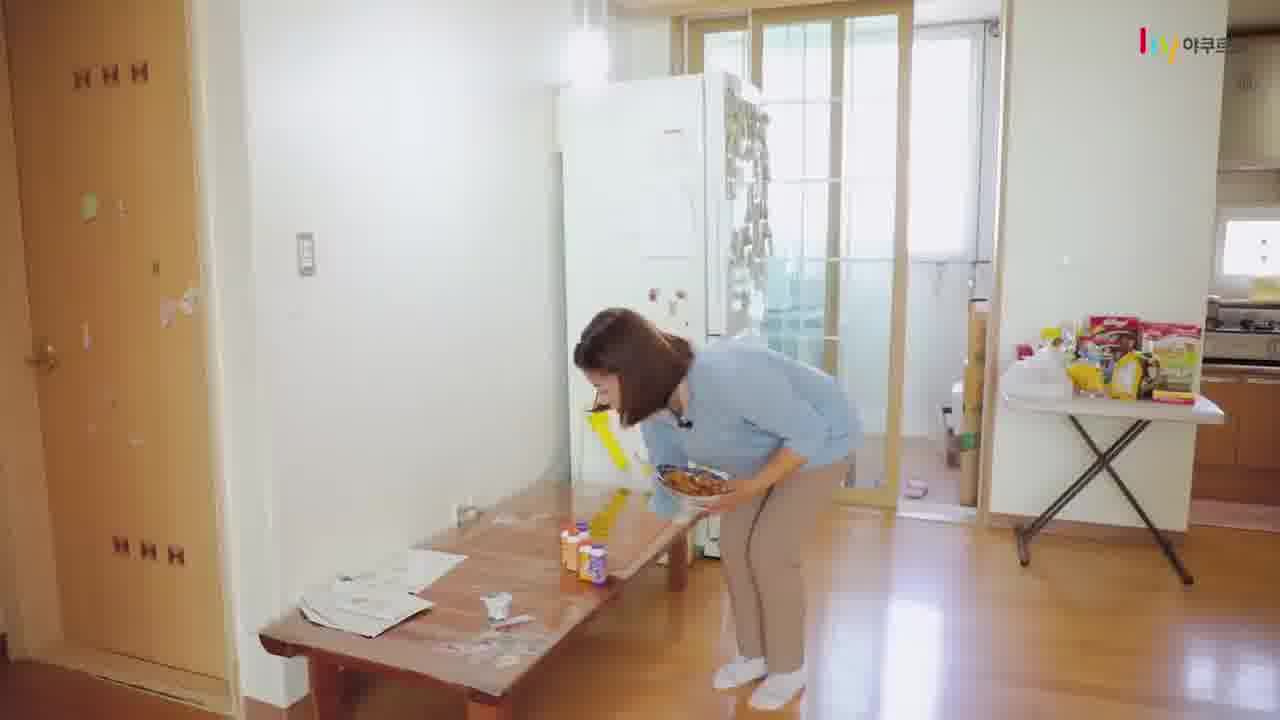Yakurut: (548, 303, 895, 720)
